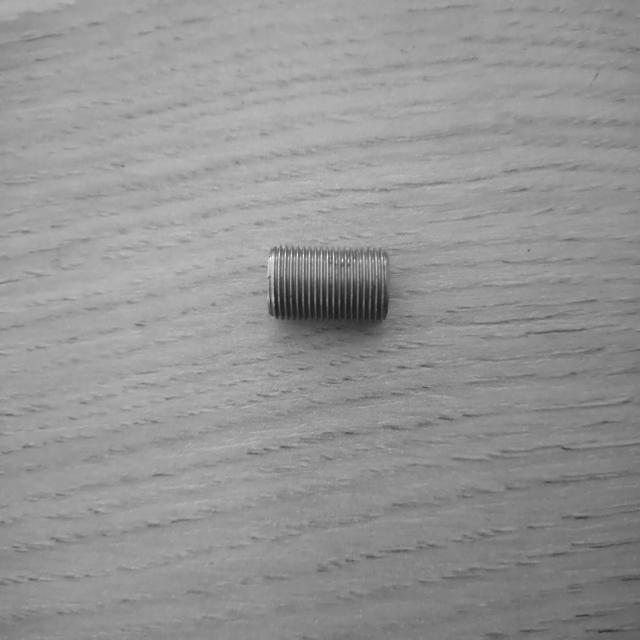Normal: (268, 242, 389, 328)
